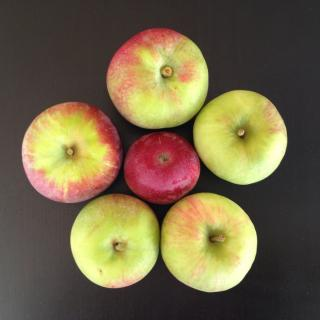Apple: (21, 100, 124, 204), (109, 28, 209, 131), (160, 192, 258, 293), (194, 88, 288, 186), (68, 194, 161, 288), (124, 129, 201, 205)
